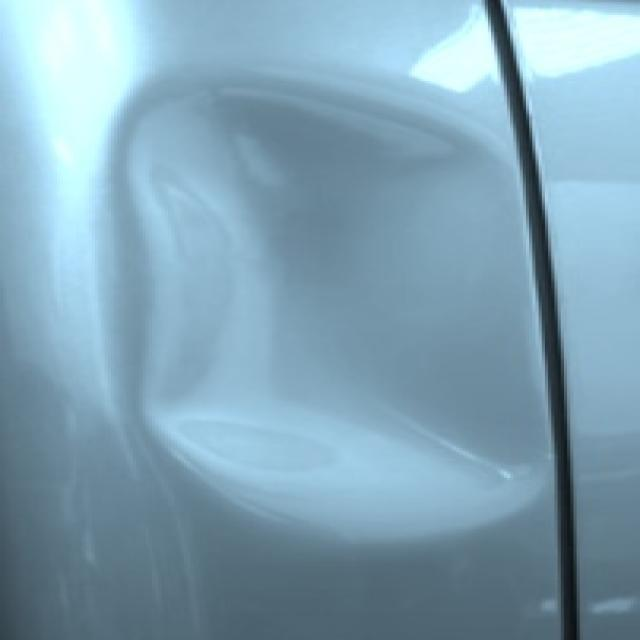dent: (119, 86, 556, 547)
